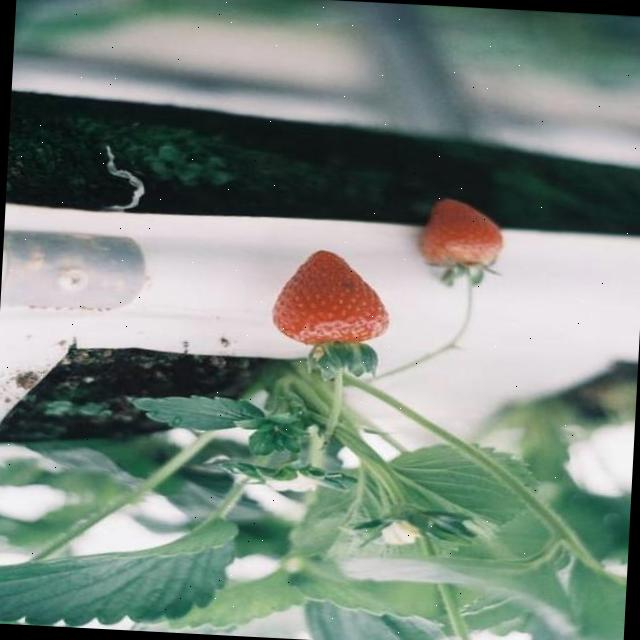strawberry: (270, 248, 392, 348), (419, 197, 503, 268)
